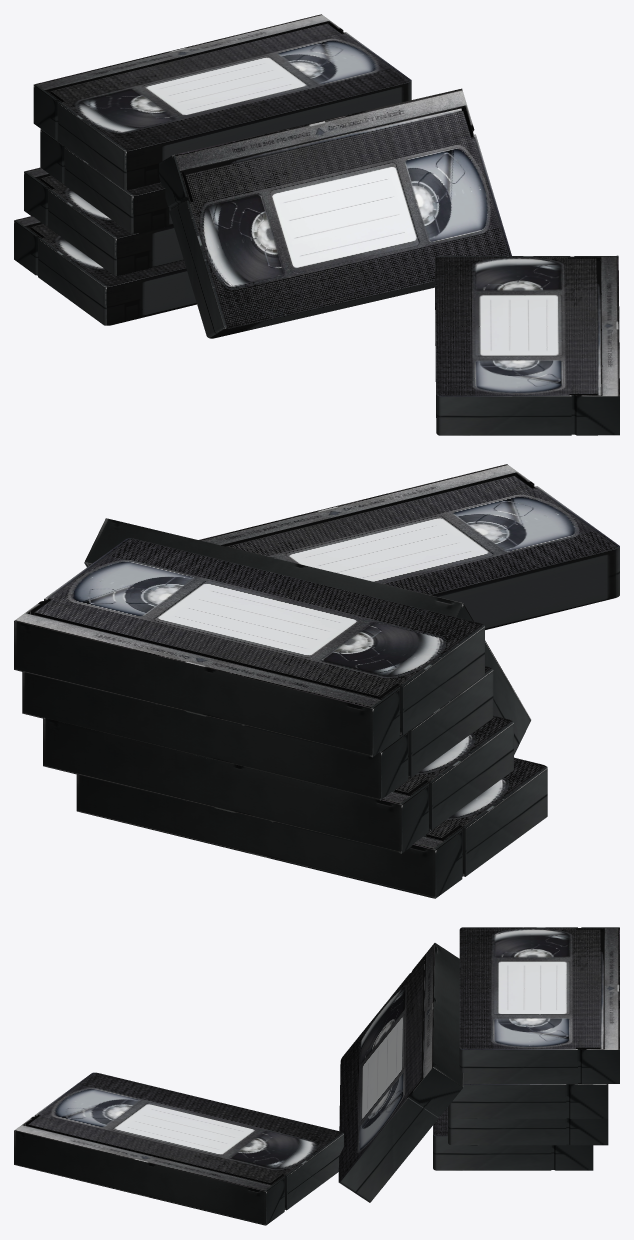
The model's file is agapi.fbx.
The picture shows the model from 3 angles, top to bottom: view 1: azimuth 30°, elevation 25°; view 2: azimuth 150°, elevation 25°; view 3: azimuth 270°, elevation 25°; orthographic projection. The views are drawn at different scales.
Parts seen in each view (by area): view 1: Cube.007, Cube.008, Cube.006, Cube, Cube.004, Cube.005; view 2: Cube.008, Cube.006, Cube.004, Cube, Cube.005, Cube.007; view 3: Cube.006, Cube.008, Cube.007, Cube.005, Cube, Cube.004.
Part boxes in pixels (box(x1,y1,x2,y2)): Cube.007: box(159, 88, 511, 338); Cube.008: box(33, 14, 411, 189); Cube.006: box(435, 255, 619, 435); Cube: box(14, 216, 196, 325); Cube.004: box(24, 167, 183, 275); Cube.005: box(40, 129, 173, 233); Cube.008: box(14, 538, 484, 757); Cube.006: box(199, 464, 619, 629); Cube.004: box(43, 715, 513, 853); Cube: box(76, 757, 547, 898); Cube.005: box(22, 666, 493, 800); Cube.007: box(84, 518, 531, 754); Cube.006: box(14, 1072, 343, 1225); Cube.008: box(459, 927, 619, 1084); Cube.007: box(338, 943, 463, 1202); Cube.005: box(448, 1083, 608, 1118); Cube: box(433, 1107, 593, 1170); Cube.004: box(448, 1117, 608, 1145).
Size of the model in its own units: 416 by 154 by 599.
Materials: 1 (1 with a texture image).
